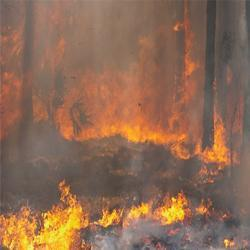fire: (1, 209, 77, 247), (123, 123, 182, 143), (159, 195, 186, 221), (98, 211, 121, 229)
